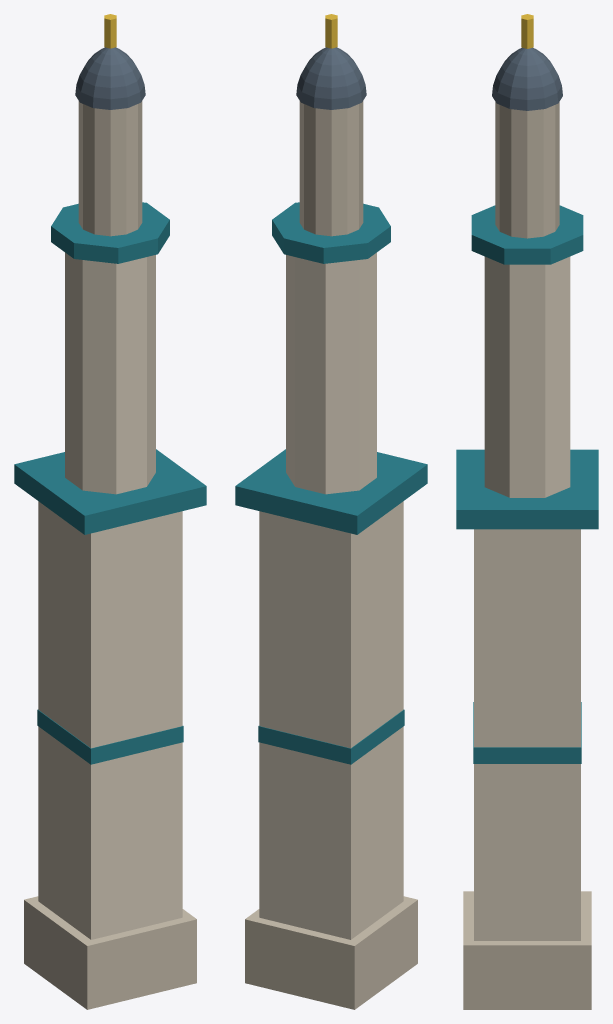
The model's file is minaret-square.glb.
3 renders of one model, left to right at view 1: azimuth 30°, elevation 25°; view 2: azimuth 150°, elevation 25°; view 3: azimuth 270°, elevation 25°, orthographic.
Visible parts, largest first — view 1: minaret-square; view 2: minaret-square; view 3: minaret-square.
Boxes of the visible parts, x1,y1,x2,y2 form: minaret-square: (14, 14, 206, 1009); minaret-square: (235, 14, 427, 1009); minaret-square: (456, 14, 598, 1009).
Size of the model in its own units: 0.4 by 2.99 by 0.4.
